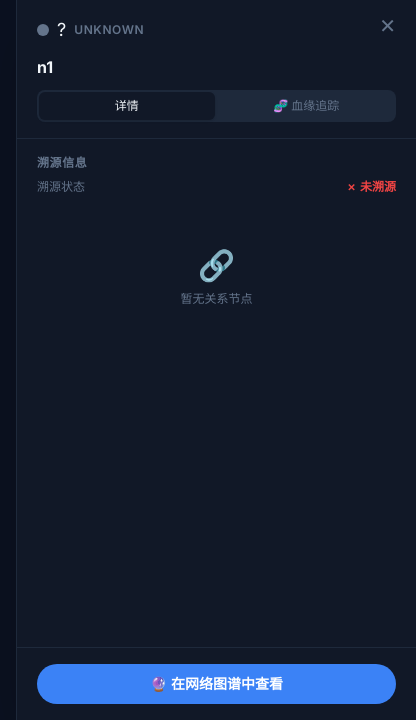
detail panel shows unknown/un-grounded fallbacks and switches lineage back to details
Check: the text "✗ 未溯源" is shown, box [346,179,396,195]
Check: the text "暂无关系节点" is shown, box [180,291,252,306]
Click the button "🧬 血缘追踪": [306, 106] box [218,92,394,120]
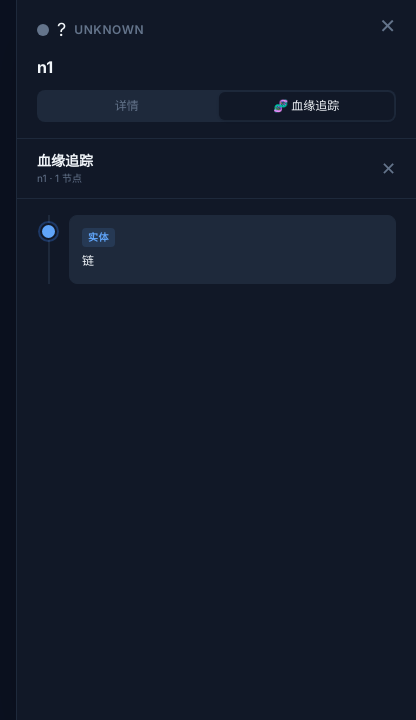
Check: the text "链" is shown, box [82,253,94,268]
Click the button "✕" in the row of "节点": [388, 168] box [381,154,396,182]
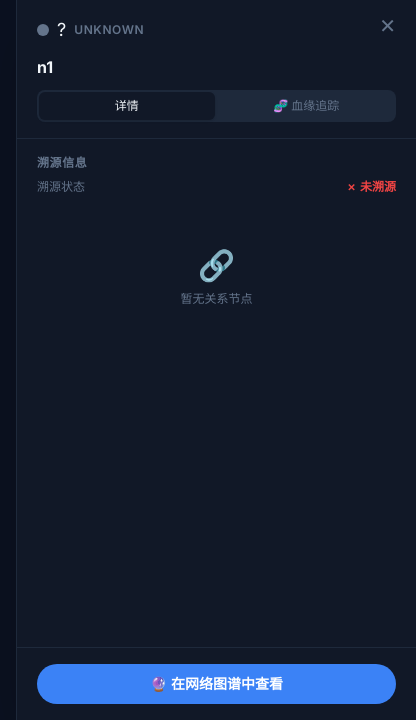
Check: the text "暂无关系节点" is shown, box [180,291,252,306]
